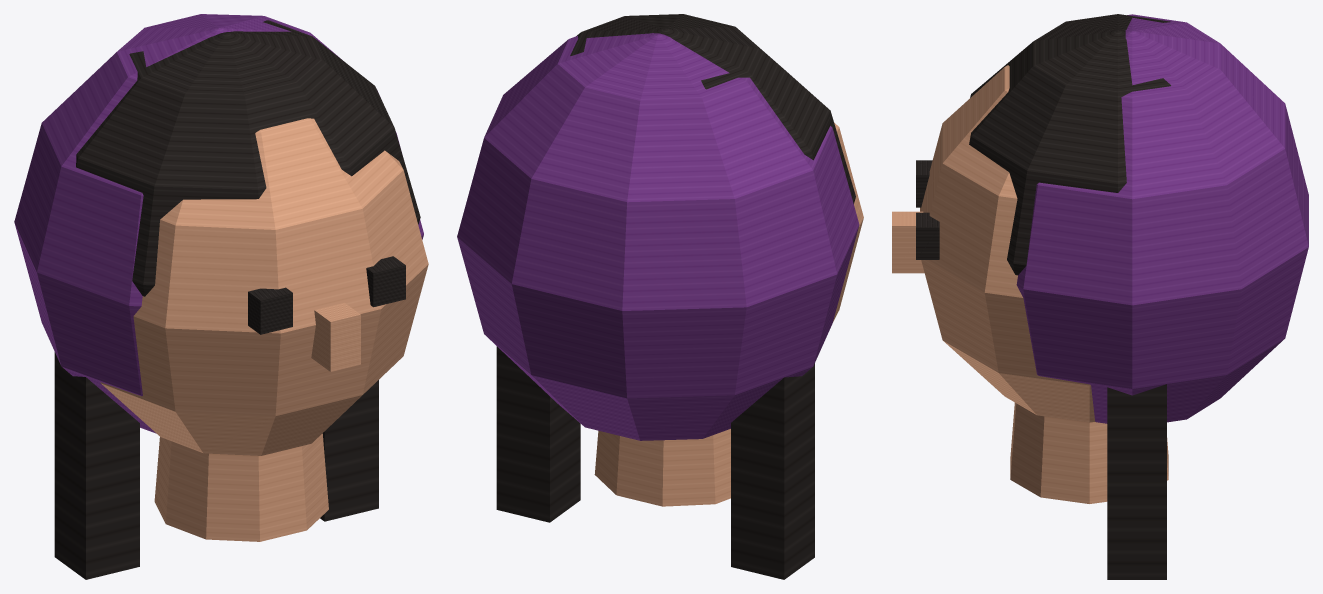
The model's file is oracion_cabeza.obj.
The picture shows the model from 3 angles, left to right: view 1: azimuth 30°, elevation 25°; view 2: azimuth 150°, elevation 25°; view 3: azimuth 270°, elevation 25°; orthographic projection. The views are drawn at different scales.
Parts seen in each view (by area): view 1: oracion_cabeza; view 2: oracion_cabeza; view 3: oracion_cabeza.
Part boxes in pixels (x1,y1,x2,y2): oracion_cabeza: (14, 14, 428, 579); oracion_cabeza: (457, 14, 863, 579); oracion_cabeza: (892, 14, 1308, 579).
Size of the model in its own units: 0.168 by 0.223 by 0.1752.
Materials: 1 (1 with a texture image).
